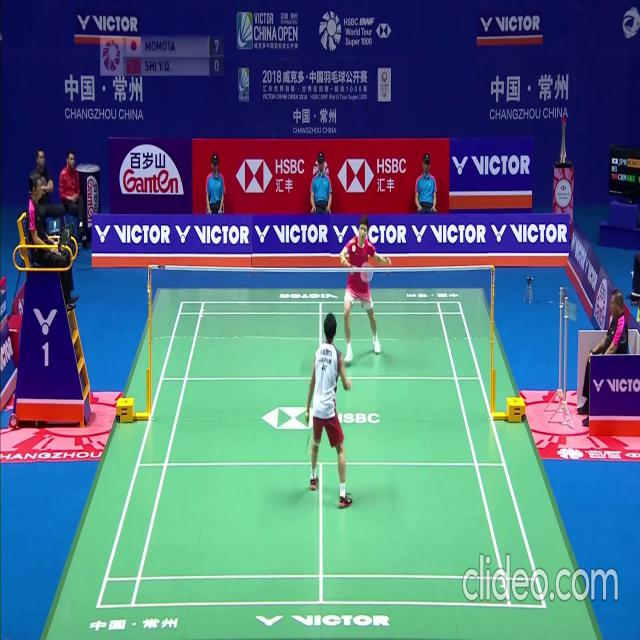Shuttlecock: (351, 245, 356, 252)
